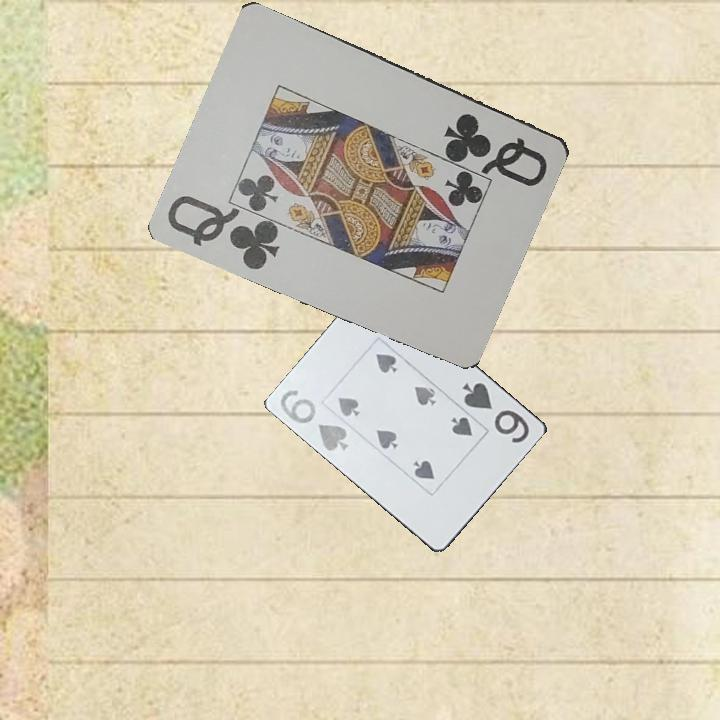6s: (277, 386, 352, 455), (458, 378, 533, 446)
Qc: (164, 191, 283, 273), (441, 109, 551, 189)
